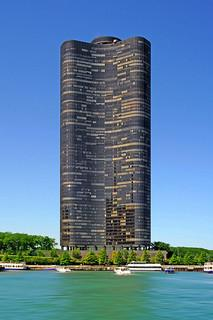building: (56, 34, 153, 252)
